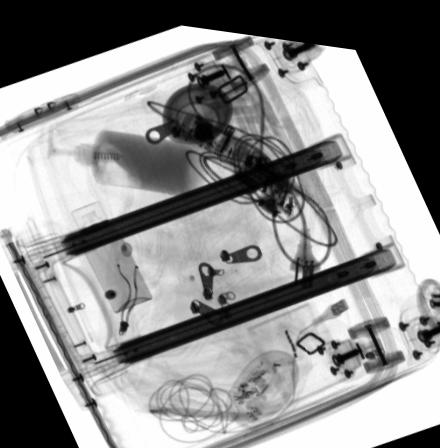Sprayer: (70, 197, 152, 308)
